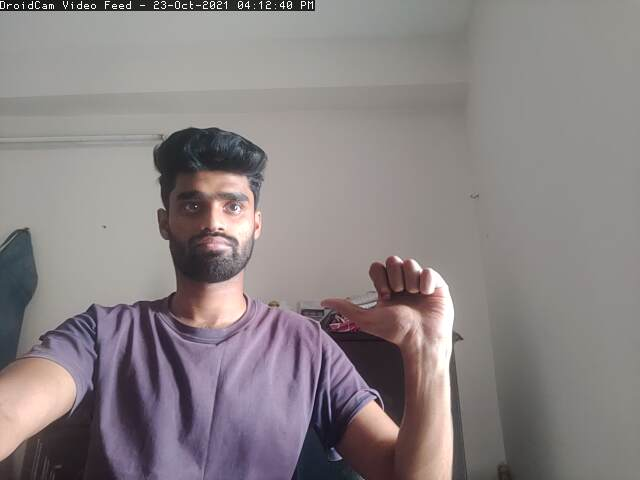ThumbsUp: (318, 248, 482, 347)
